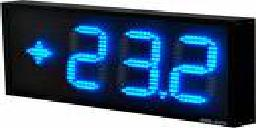LED: (19, 21, 223, 103)
